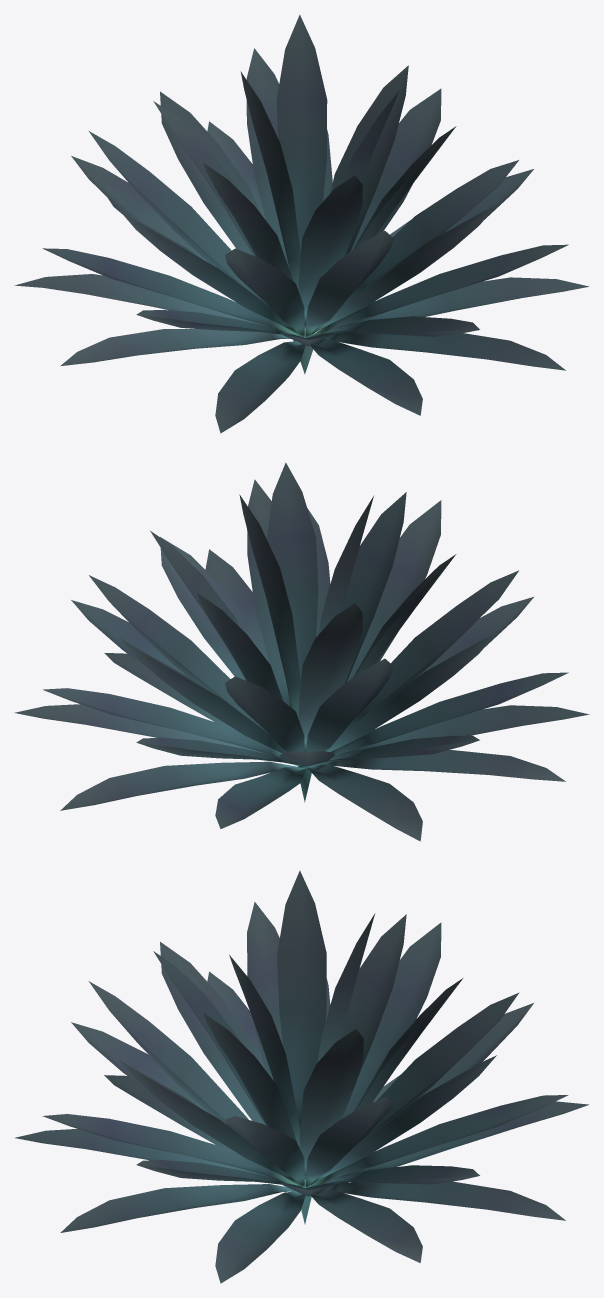
Rendered from plants-cacti-succulents-spiky-rosette_v2.glb.
3 views of the same model, one above another, from view 1: azimuth 30°, elevation 25°; view 2: azimuth 150°, elevation 25°; view 3: azimuth 270°, elevation 25° (orthographic).
Visible parts, largest first — view 1: Spiky Rosette_v2; view 2: Spiky Rosette_v2; view 3: Spiky Rosette_v2.
Boxes of the visible parts, box(x1,y1,x2,y2) form: Spiky Rosette_v2: box(14, 14, 588, 433); Spiky Rosette_v2: box(14, 462, 589, 841); Spiky Rosette_v2: box(15, 870, 588, 1283).
Bounding box in the file's own units: 0.5968 × 0.3763 × 0.6.
